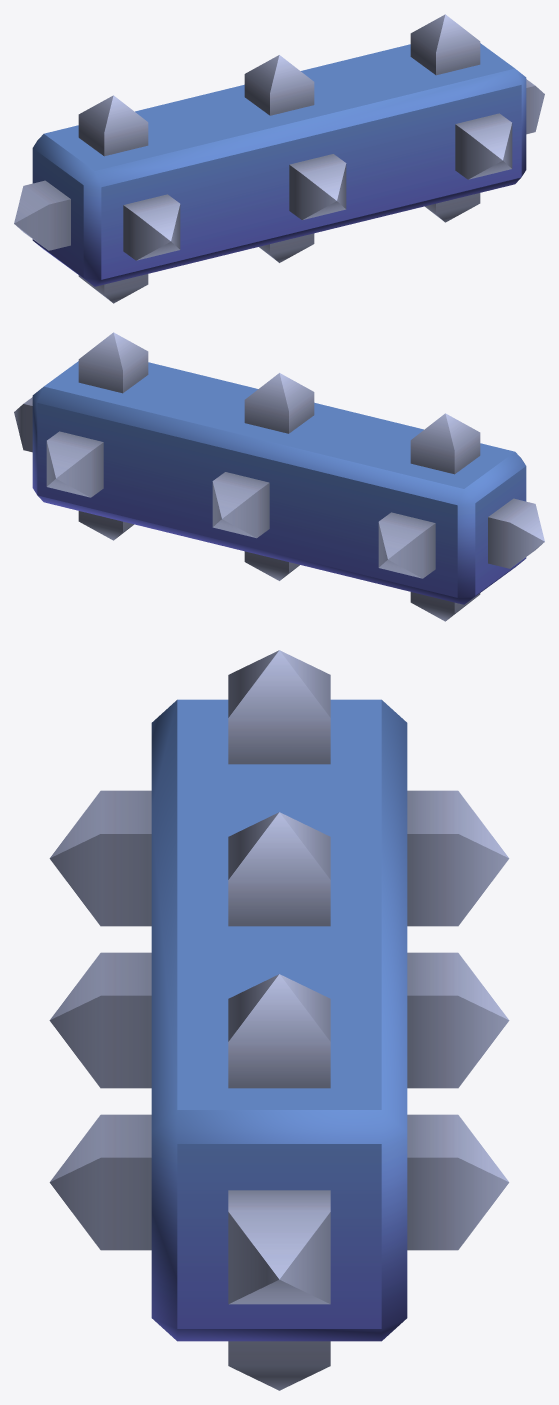
File: spike-block-wide.glb
3 renders of one model, top to bottom at view 1: azimuth 30°, elevation 25°; view 2: azimuth 150°, elevation 25°; view 3: azimuth 270°, elevation 25°, orthographic. The views are drawn at different scales.
Visible parts, largest first — view 1: spike-block-wide; view 2: spike-block-wide; view 3: spike-block-wide.
Boxes of the visible parts, x1,y1,x2,y2 form: spike-block-wide: (14,14,544,303); spike-block-wide: (14,332,544,621); spike-block-wide: (49,650,509,1390).
Size of the model in its own units: 2.4 by 0.9001 by 0.9001.
Materials: 1 (1 with a texture image).
